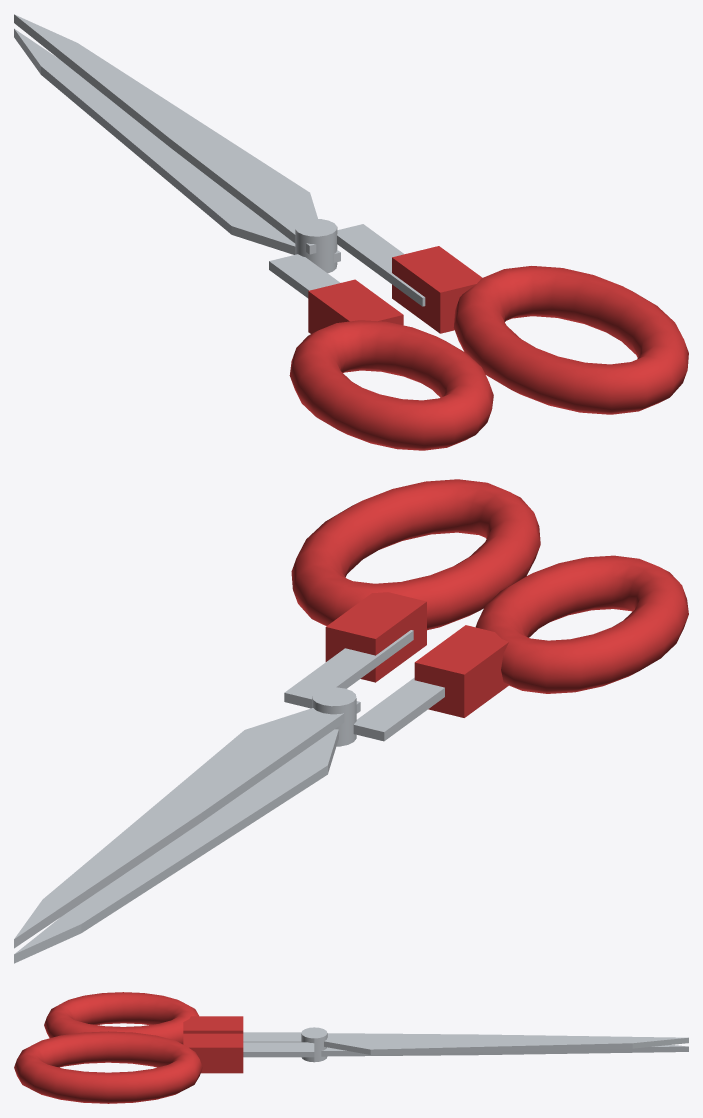
File: scissors.glb
The picture shows the model from 3 angles, top to bottom: view 1: azimuth 30°, elevation 25°; view 2: azimuth 150°, elevation 25°; view 3: azimuth 270°, elevation 25°; orthographic projection. The views are drawn at different scales.
Parts seen in each view (by area): view 1: Scissors; view 2: Scissors; view 3: Scissors.
Part boxes in pixels (x1,y1,x2,y2): Scissors: (14, 14, 688, 450); Scissors: (14, 479, 688, 963); Scissors: (14, 992, 688, 1103).
Bounding box in the file's own units: 0.0644 × 0.0104 × 0.1802.
